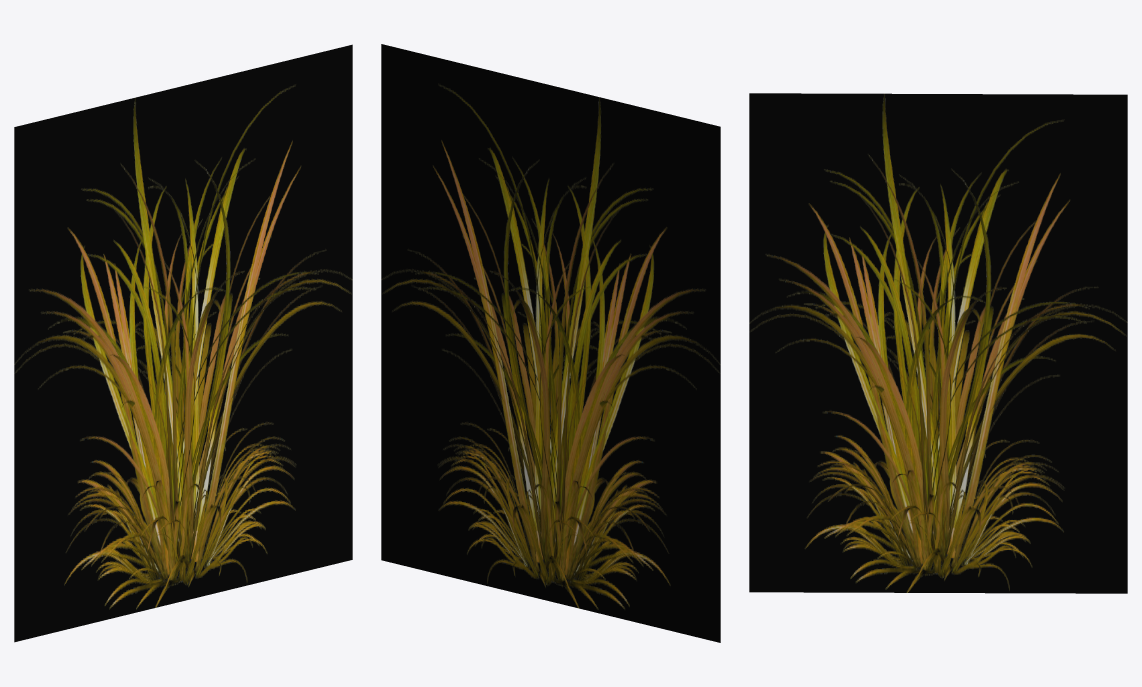
The model's file is Grass_3.glb.
3 renders of one model, left to right at view 1: azimuth 30°, elevation 25°; view 2: azimuth 150°, elevation 25°; view 3: azimuth 270°, elevation 25°, orthographic. The views are drawn at different scales.
Parts seen in each view (by area): view 1: farm05.004; view 2: farm05.004; view 3: farm05.004.
Part boxes in pixels (box(x1,y1,x2,y2)): farm05.004: box(14, 44, 352, 642); farm05.004: box(381, 44, 720, 642); farm05.004: box(749, 93, 1127, 593).
Size of the model in its own units: 7.01 by 10.2 by 7.01.
Materials: 1 (1 with a texture image).
